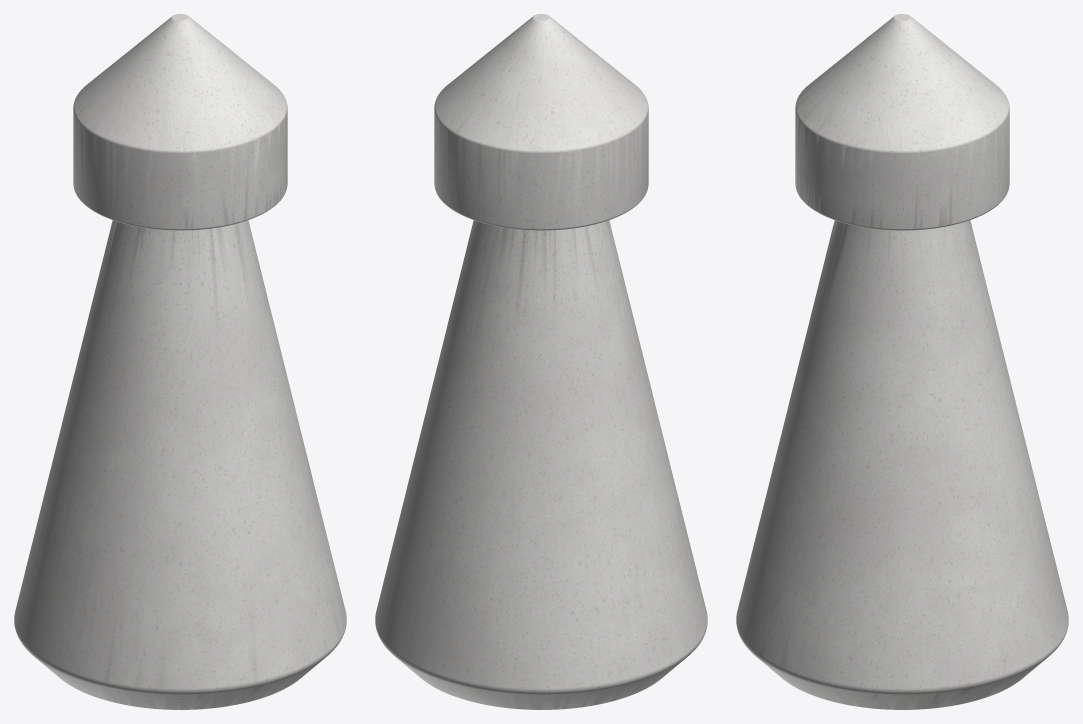
The model's file is bishop-white-hd.glb.
The picture shows the model from 3 angles, left to right: view 1: azimuth 30°, elevation 25°; view 2: azimuth 150°, elevation 25°; view 3: azimuth 270°, elevation 25°; orthographic projection.
Visible parts, largest first — view 1: 06_strelec_bila; view 2: 06_strelec_bila; view 3: 06_strelec_bila.
Boxes of the visible parts, <box> form: 06_strelec_bila: <box>14,14,346,709</box>; 06_strelec_bila: <box>375,14,707,709</box>; 06_strelec_bila: <box>736,14,1068,709</box>.
Size of the model in its own units: 0.7153 by 1.51 by 0.7153.
1 material, 1 textured.
